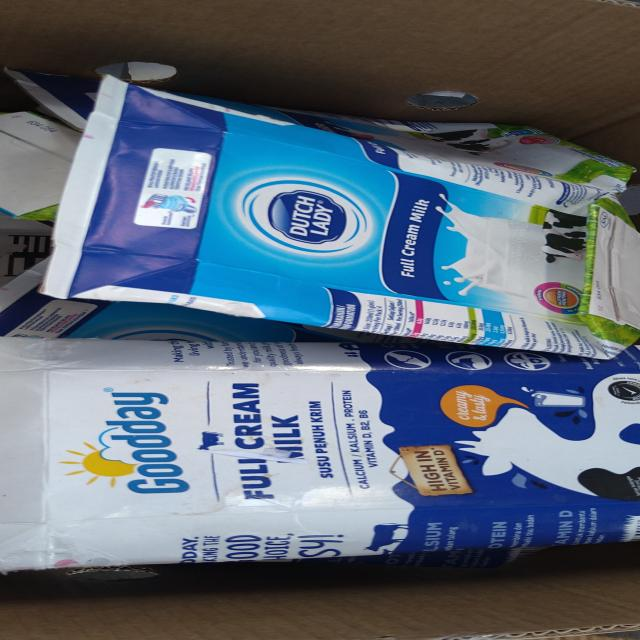cardboard: (26, 65, 640, 355), (0, 333, 640, 572)
